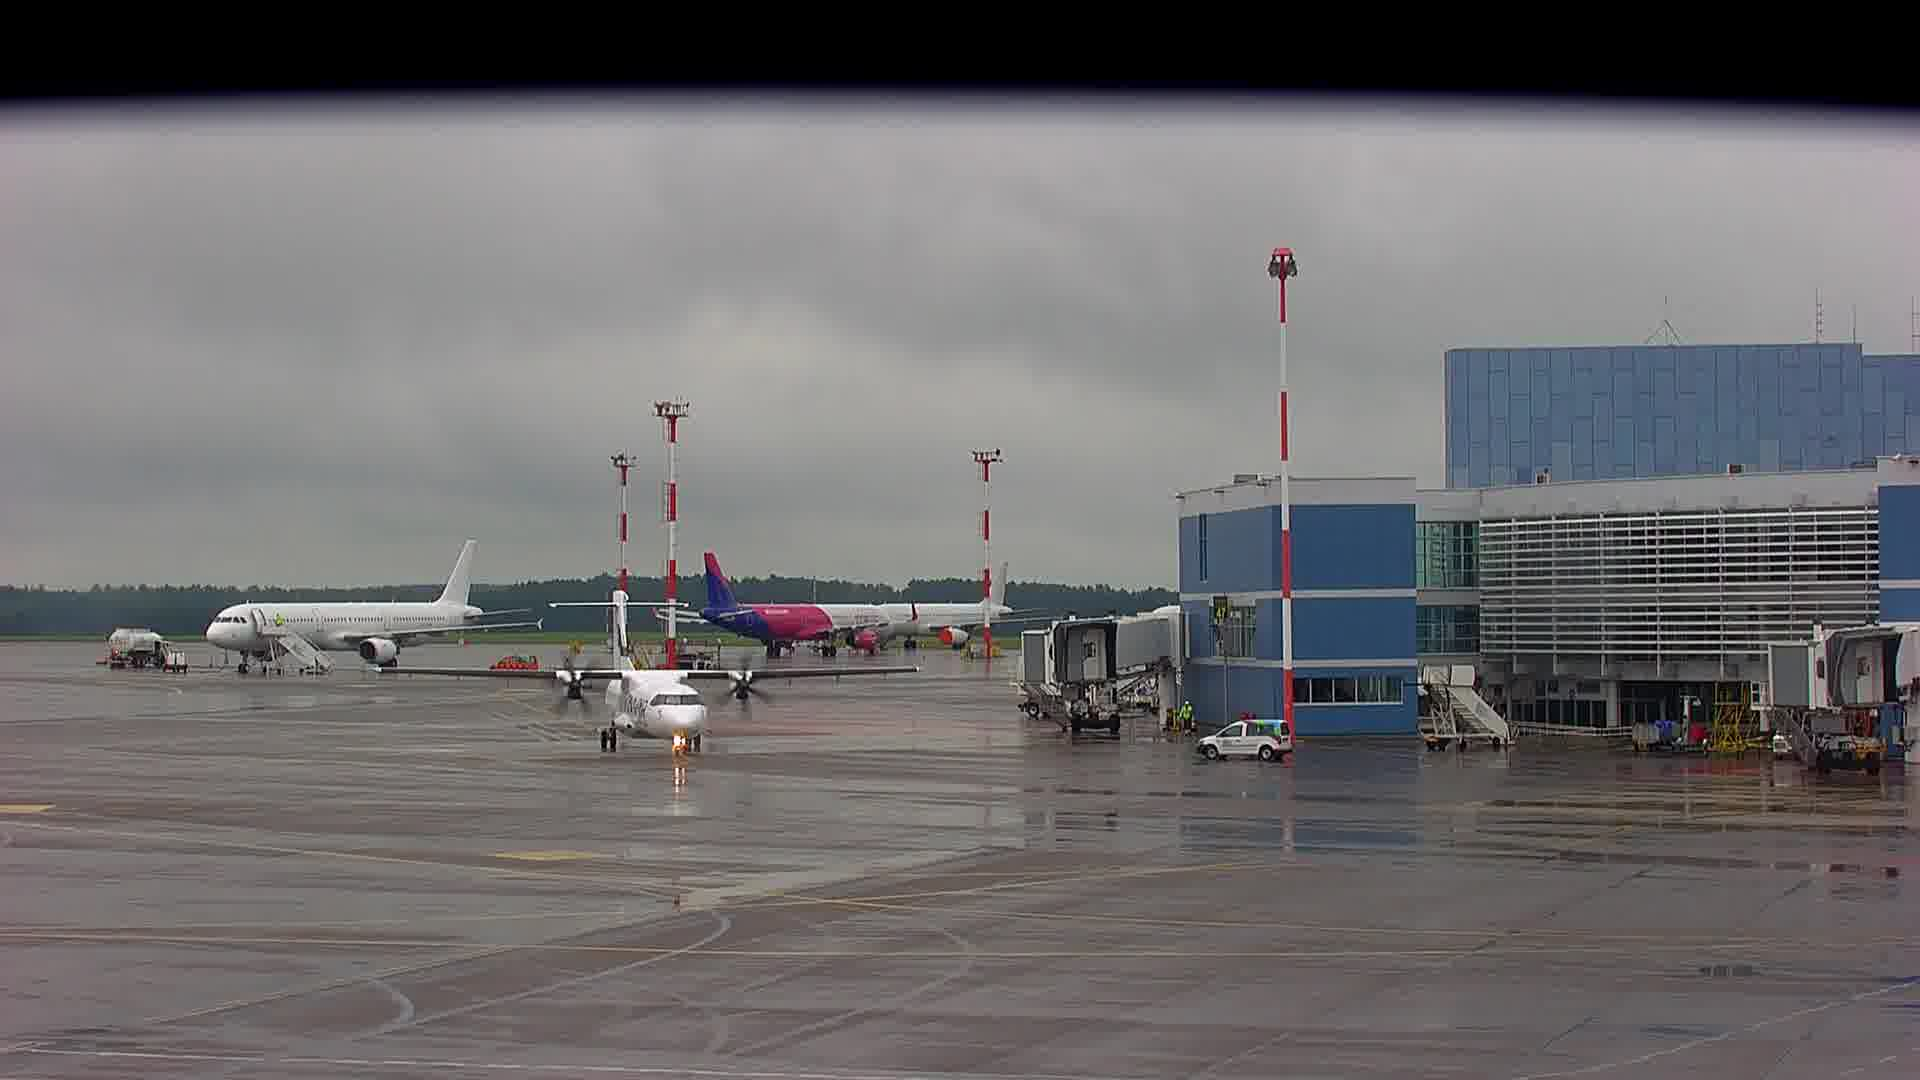Car: (1197, 711, 1298, 766)
Fuel: (97, 622, 169, 666)
Mobile stairs: (1408, 659, 1526, 760)
Plane: (381, 592, 919, 762), (213, 534, 551, 677), (647, 541, 923, 671), (851, 560, 1051, 667)
Worker: (1173, 695, 1196, 732), (268, 609, 284, 629)
